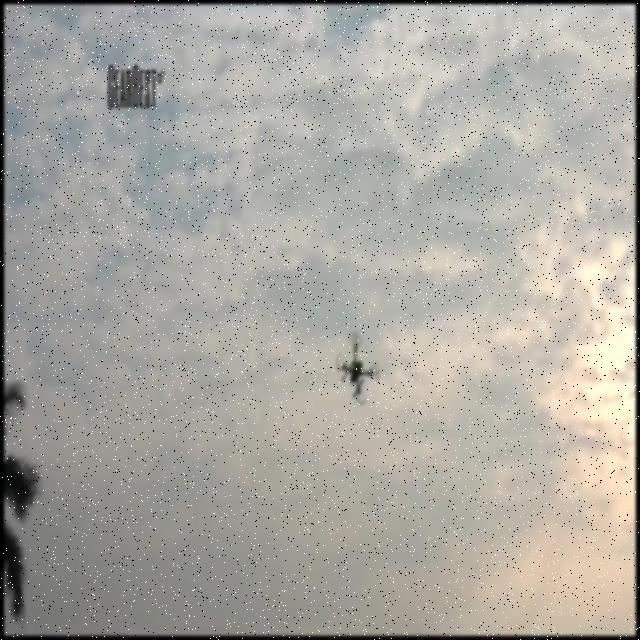UAV: (336, 332, 380, 404)
